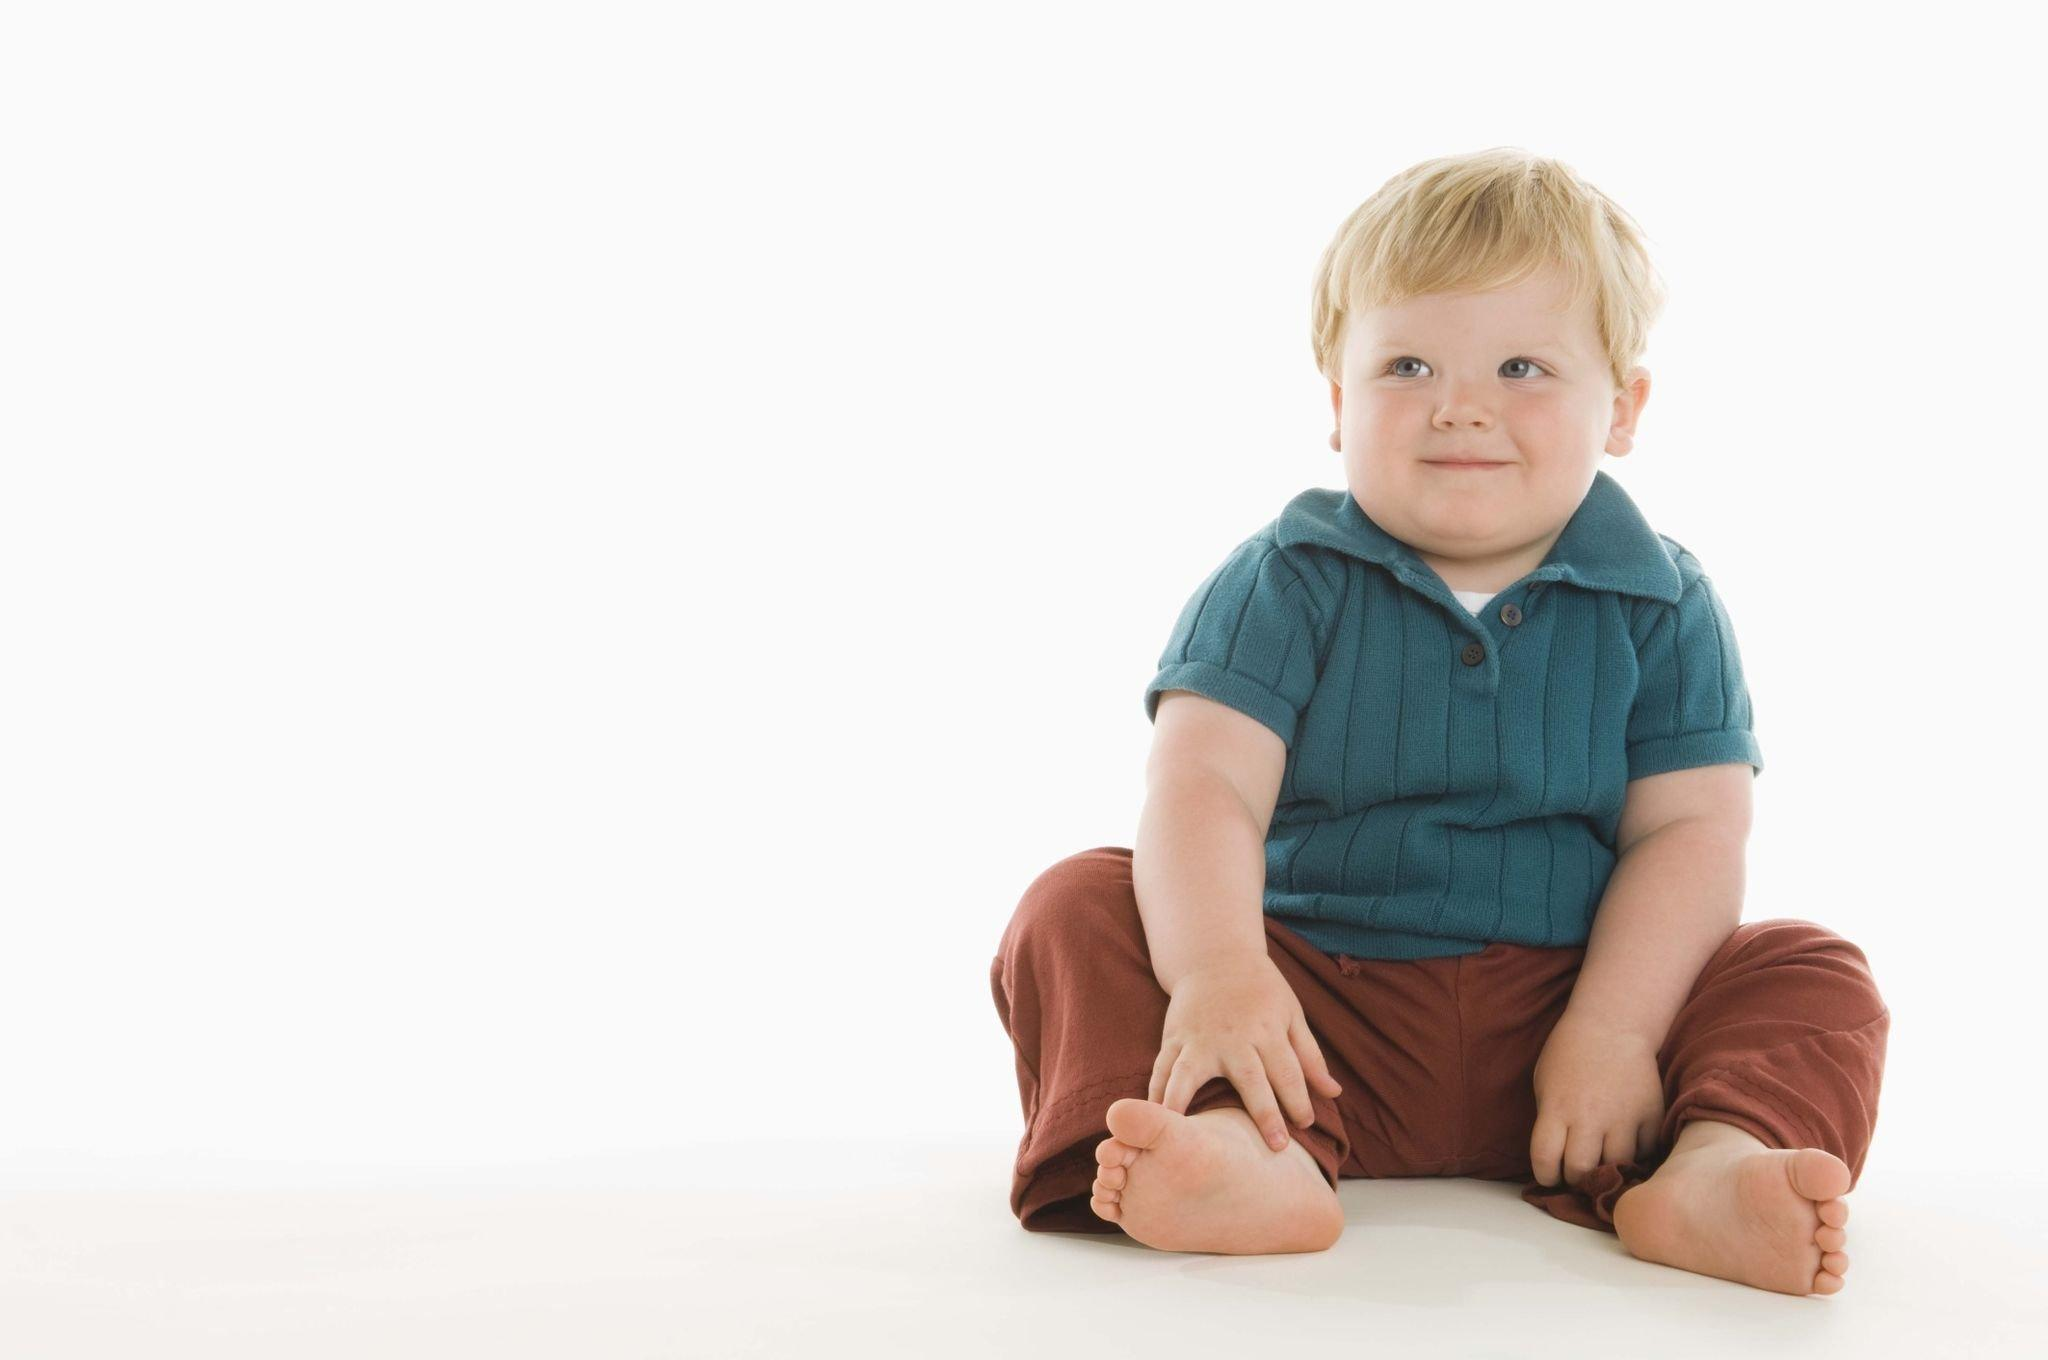Healthy: (1280, 176, 1635, 568)
